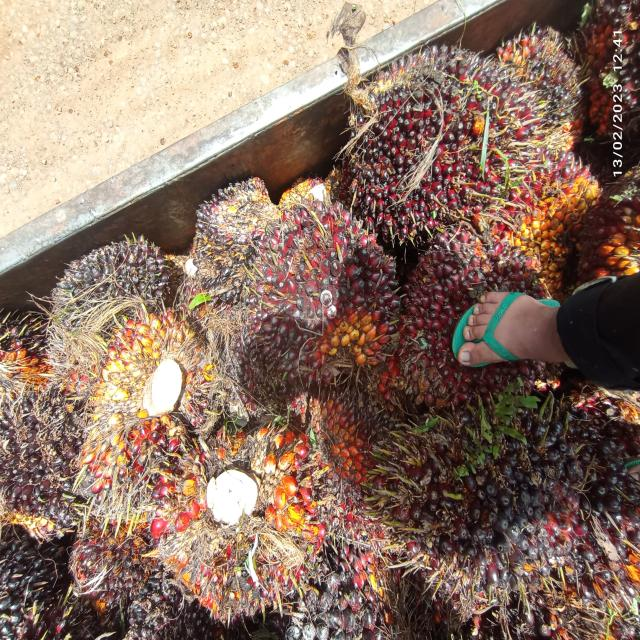fraksi 00: (376, 362, 631, 615), (503, 2, 590, 148), (55, 237, 178, 337), (0, 387, 81, 522)
fraksi 1: (305, 0, 563, 273), (235, 185, 412, 402), (190, 175, 284, 269)
